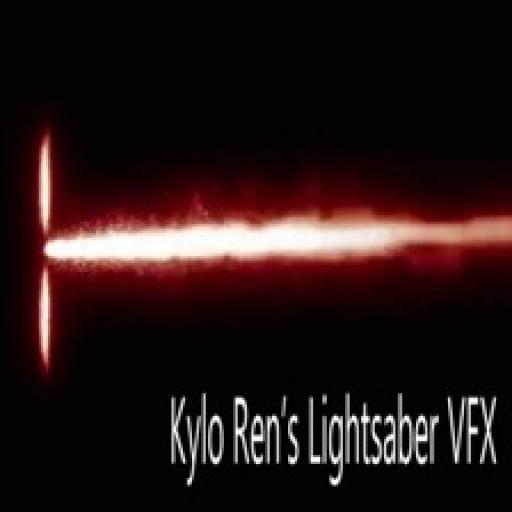sith saber: (10, 121, 509, 382)
